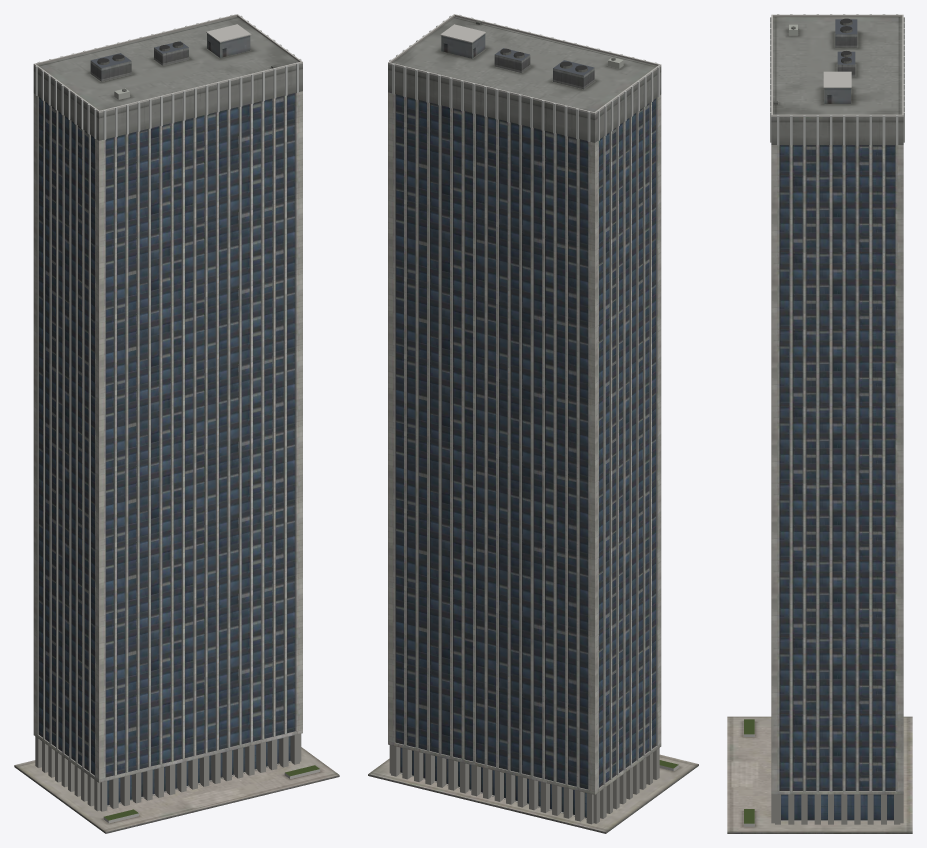
The model's file is nyc_glassslab_c.glb.
3 views of the same model, side by side, from view 1: azimuth 30°, elevation 25°; view 2: azimuth 150°, elevation 25°; view 3: azimuth 270°, elevation 25° (orthographic).
Parts seen in each view (by area): view 1: nyc_glassslab_c; view 2: nyc_glassslab_c; view 3: nyc_glassslab_c.
Boxes of the visible parts, x1,y1,x2,y2 form: nyc_glassslab_c: [14, 14, 339, 833]; nyc_glassslab_c: [368, 14, 698, 833]; nyc_glassslab_c: [727, 14, 912, 833].
Bounding box in the file's own units: 61.99 × 182 × 42.
Materials: 1 (1 with a texture image).
